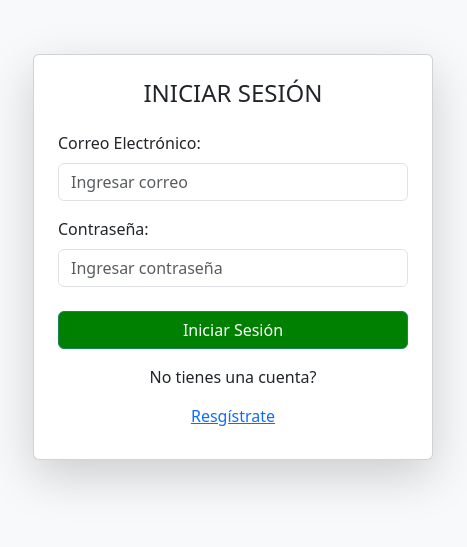
Test: Login Component › handles API errors on login
# Rellenar los campos del formulario
Step 1. Type "wrong@example.com" into the field with placeholder "Ingresar correo" → (233, 182), box x1=58 y1=163 x2=408 y2=201
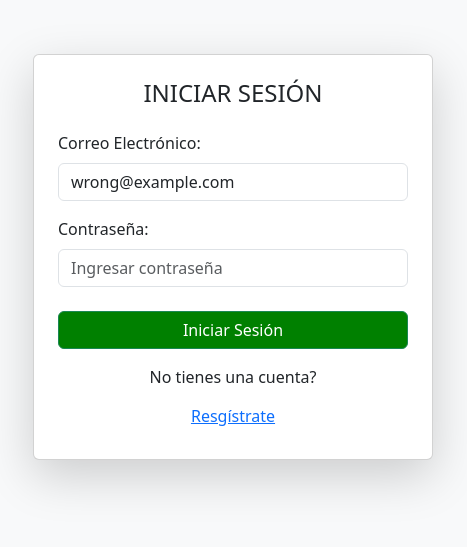
Step 2. Type "wrongpassword" into the password field with placeholder "Ingresar contraseña" → (233, 268), box x1=58 y1=249 x2=408 y2=287
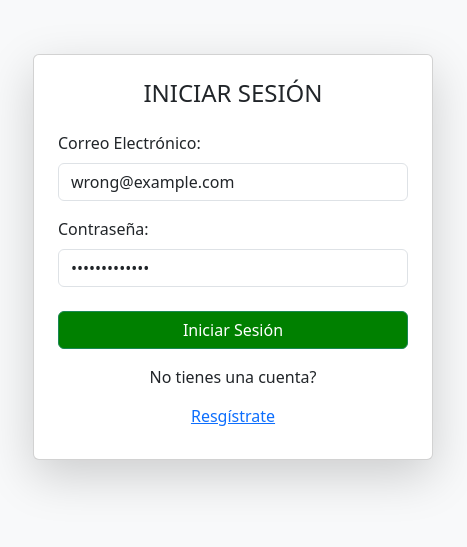
# Simula el clic en el botón de inicio de sesión
Step 3. Click the button "Iniciar Sesión" → (233, 330), box x1=58 y1=311 x2=408 y2=349
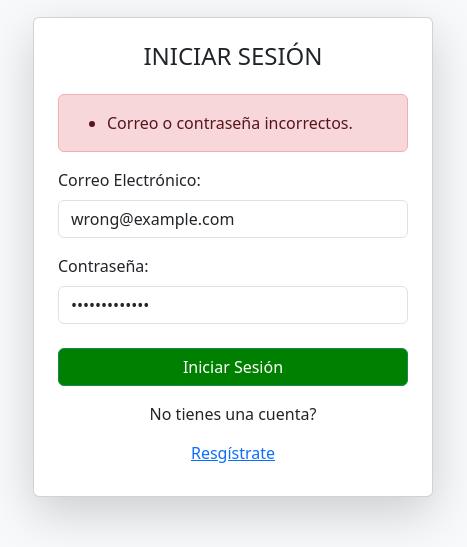
Result: the list item "Correo o contraseña incorrectos." is shown at x1=107 y1=111 x2=391 y2=135
